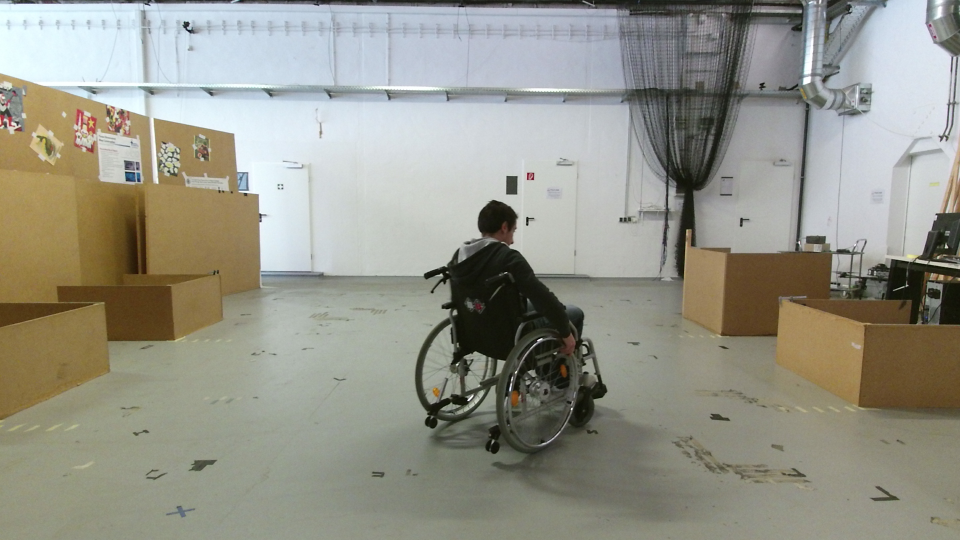wheelchair: (406, 197, 604, 459)
